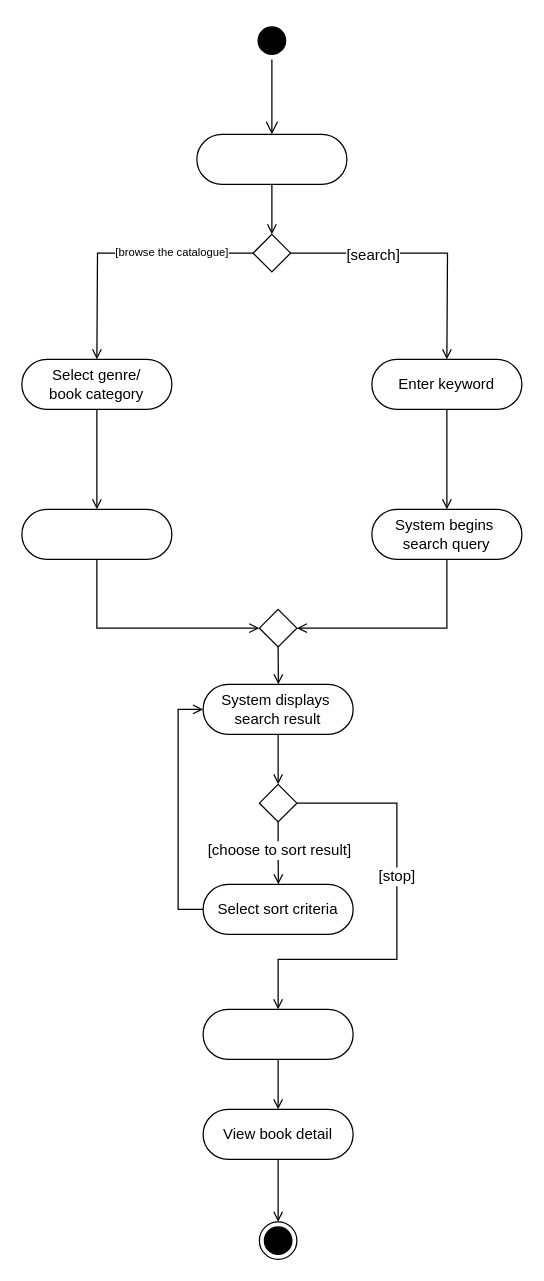
This 544x1281 diagram has some shape labels left out. Here are the shapes that lost their labels. From the top down, the centre of each, then its label:
the point at 271,158: Access the website main page
the point at 96,533: System loads book by category
the point at 277,1033: Select a book from result
